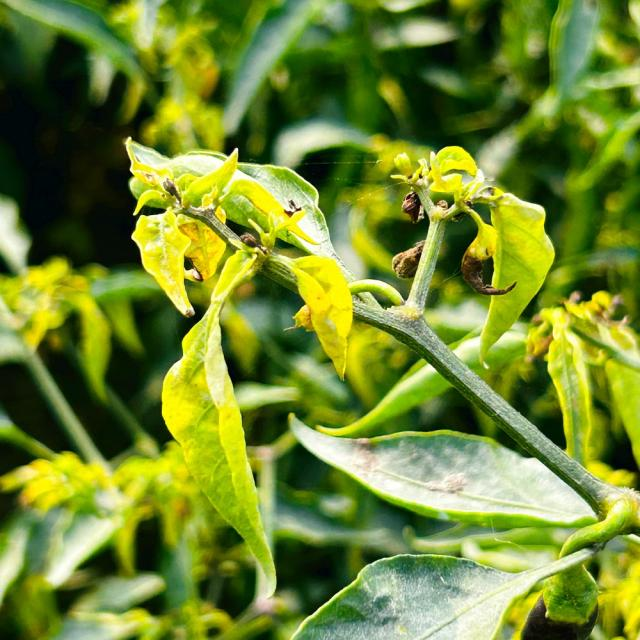Chilli_Leaf_Curl: (122, 136, 638, 637), (124, 136, 360, 602), (159, 248, 278, 600), (387, 144, 556, 367), (286, 411, 602, 529), (289, 548, 600, 638), (473, 188, 555, 368)
